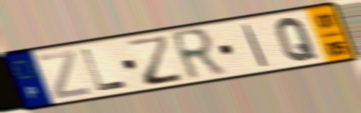I: (241, 23, 271, 69)
L: (79, 47, 129, 93)
Q: (274, 16, 320, 63)
R: (167, 26, 230, 84)
Z: (124, 33, 188, 88), (36, 48, 93, 101)
